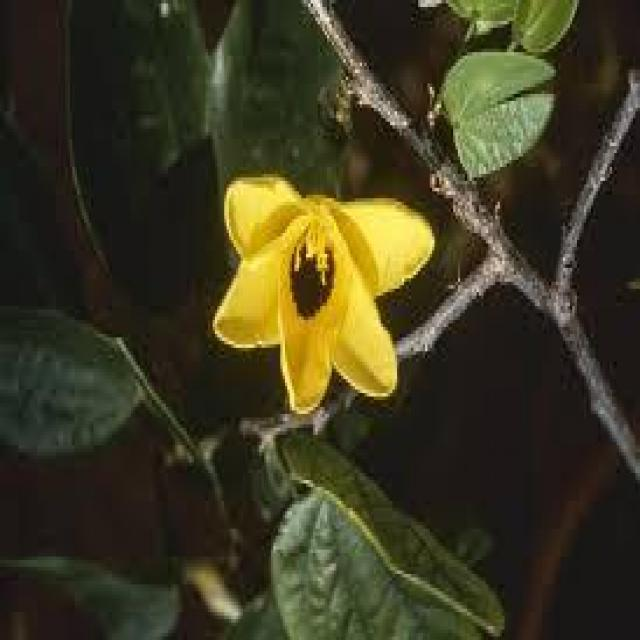organic waste: (208, 170, 432, 407)
